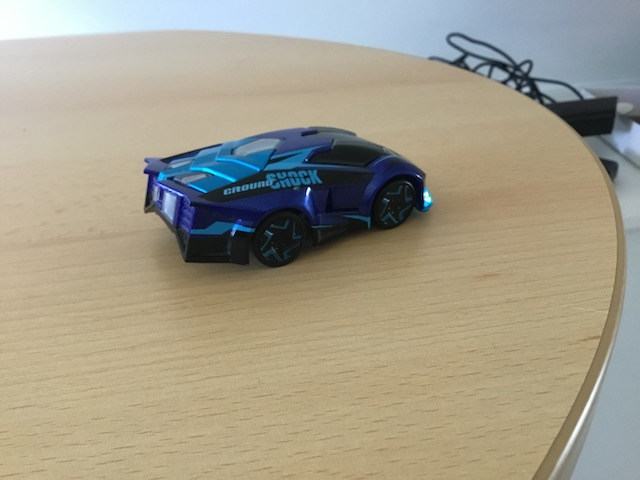car-blue: (138, 122, 439, 274)
